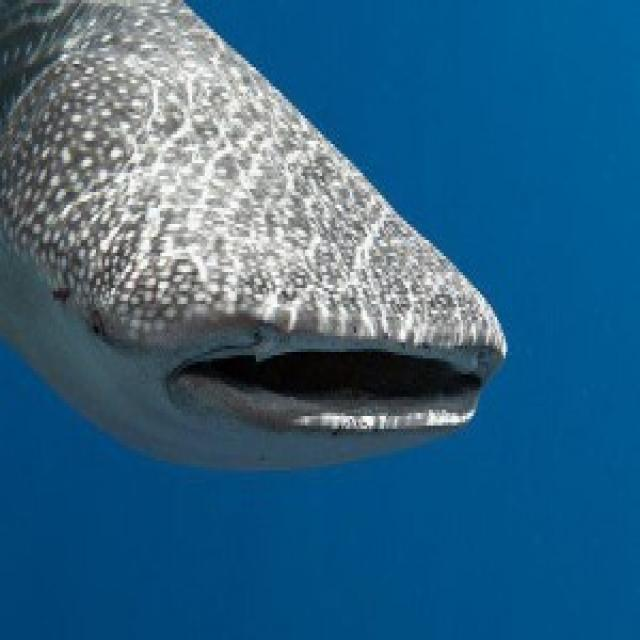Shark: (0, 1, 511, 450)
